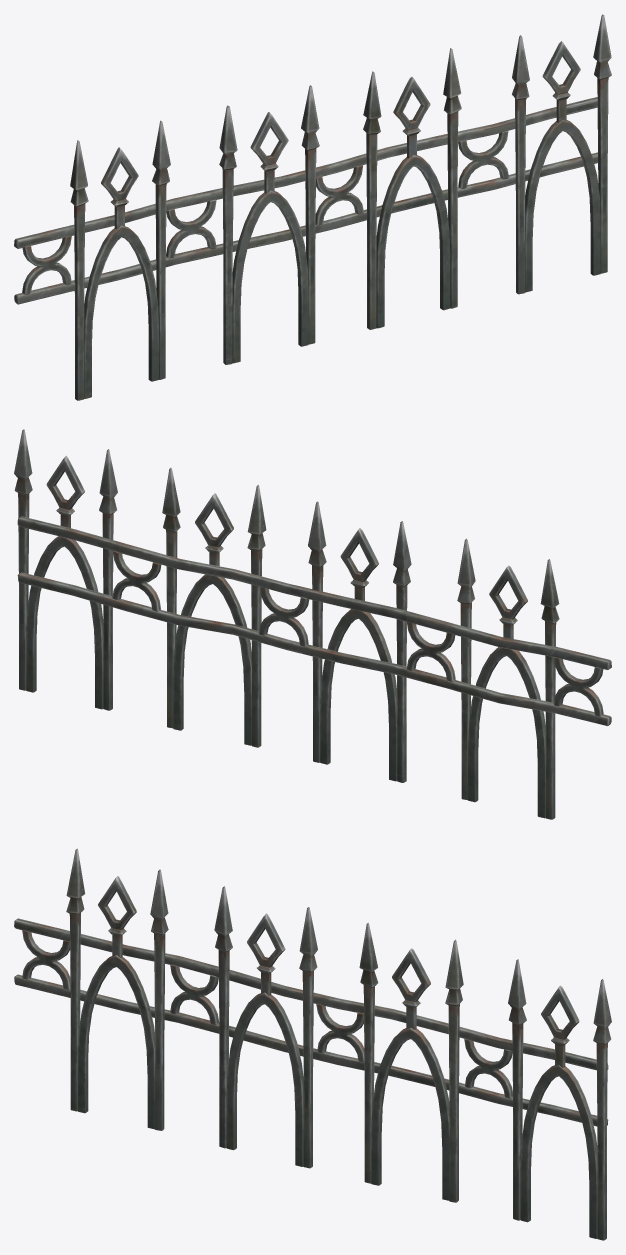
3 renders of one model, top to bottom at view 1: azimuth 30°, elevation 25°; view 2: azimuth 150°, elevation 25°; view 3: azimuth 330°, elevation 25°, orthographic.
Parts seen in each view (by area): view 1: SM_Iron_Fence_01v2_LOD0; view 2: SM_Iron_Fence_01v2_LOD0; view 3: SM_Iron_Fence_01v2_LOD0.
Boxes of the visible parts, x1,y1,x2,y2 form: SM_Iron_Fence_01v2_LOD0: (14,14,611,400); SM_Iron_Fence_01v2_LOD0: (14,429,611,819); SM_Iron_Fence_01v2_LOD0: (14,848,611,1240).
Size of the model in its own units: 4.05 by 1.69 by 0.1346.
1 material, 1 textured.
